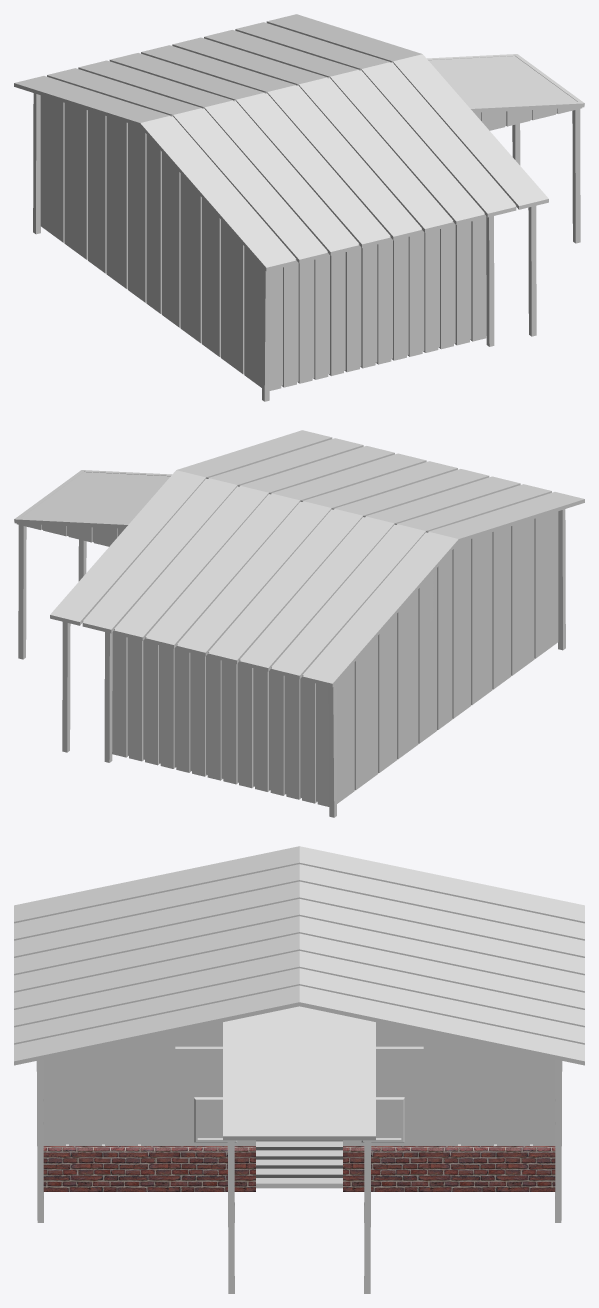
The model's file is gasStationShop.fbx.
The picture shows the model from 3 angles, top to bottom: view 1: azimuth 30°, elevation 25°; view 2: azimuth 150°, elevation 25°; view 3: azimuth 270°, elevation 25°; orthographic projection. The views are drawn at different scales.
Visible parts, largest first — view 1: Cube.004, Cube, Cube.005, Cube.003, Cube.006; view 2: Cube.004, Cube, Cube.005, Cube.003, Cube.006; view 3: Cube.004, Cube, Cube.005, Cube.003, Cube.002, Cube.001, Cube.006.
Boxes of the visible parts, x1,y1,x2,y2 form: Cube.004: [14, 14, 548, 271]; Cube: [40, 95, 486, 390]; Cube.005: [428, 56, 581, 130]; Cube.003: [33, 93, 580, 401]; Cube.006: [427, 54, 584, 112]; Cube.004: [50, 430, 584, 687]; Cube: [112, 511, 558, 806]; Cube.005: [17, 472, 170, 546]; Cube.003: [18, 509, 565, 817]; Cube.006: [14, 470, 171, 528]; Cube.004: [14, 846, 584, 1065]; Cube: [43, 1022, 555, 1191]; Cube.005: [225, 1006, 373, 1140]; Cube.003: [36, 1059, 562, 1293]; Cube.002: [256, 1140, 342, 1188]; Cube.001: [175, 1046, 423, 1087]; Cube.006: [223, 1021, 375, 1140].
Bounding box in the file's own units: 717 × 327 × 763.
